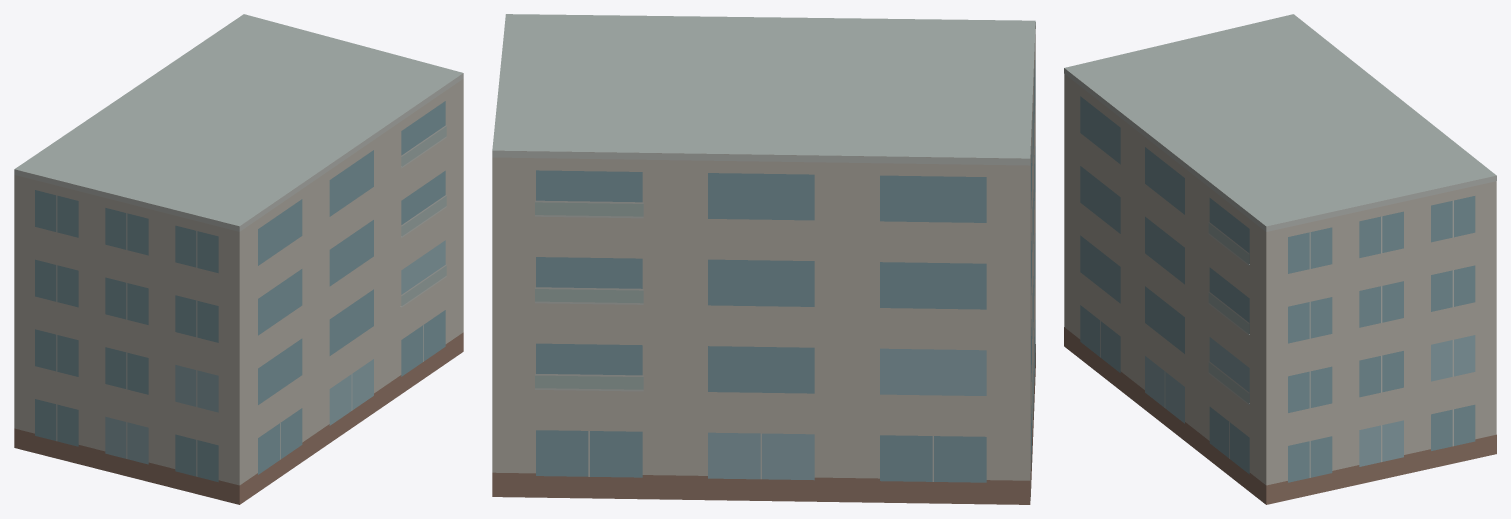
File: survey-upis-33039538.glb
The picture shows the model from 3 angles, left to right: view 1: azimuth 30°, elevation 25°; view 2: azimuth 150°, elevation 25°; view 3: azimuth 270°, elevation 25°; orthographic projection. The views are drawn at different scales.
Parts seen in each view (by area): view 1: survey-upis-33039538.tmp; view 2: survey-upis-33039538.tmp; view 3: survey-upis-33039538.tmp.
Part boxes in pixels (x1=…): survey-upis-33039538.tmp: x1=14, y1=14, x2=463, y2=504; survey-upis-33039538.tmp: x1=492, y1=14, x2=1035, y2=504; survey-upis-33039538.tmp: x1=1064, y1=14, x2=1496, y2=504.
Size of the model in its own units: 19.97 by 12.2 by 17.19.
